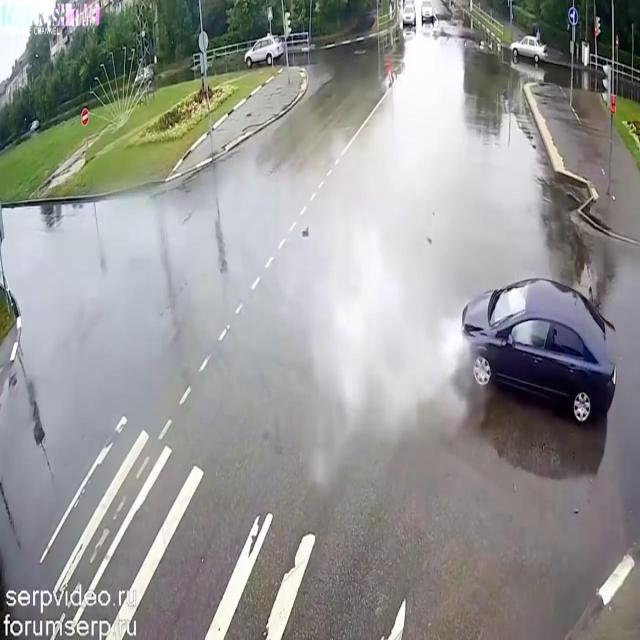accident: (421, 251, 623, 457)
